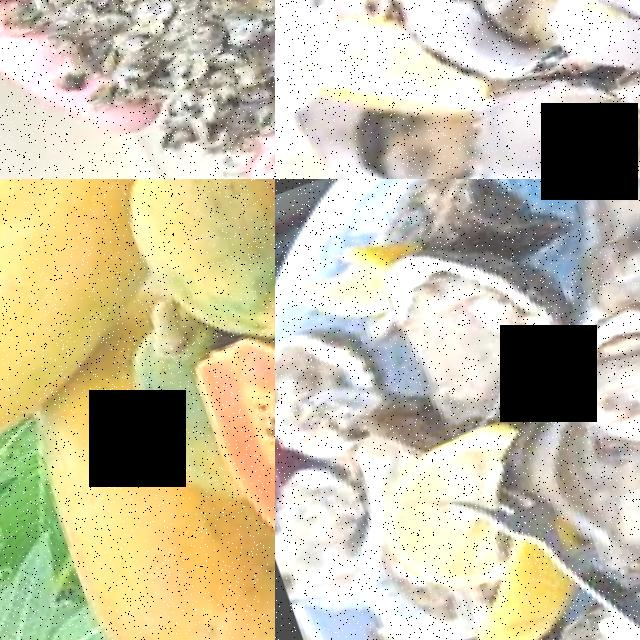lemon: (355, 421, 525, 606)
oysters: (367, 220, 570, 439), (502, 401, 640, 611), (450, 56, 640, 179), (558, 263, 640, 537), (525, 179, 640, 343), (275, 315, 383, 488), (377, 0, 540, 105), (301, 90, 493, 179)
pawpaw: (0, 179, 155, 457), (64, 485, 275, 640), (101, 179, 275, 343), (188, 329, 275, 623)
